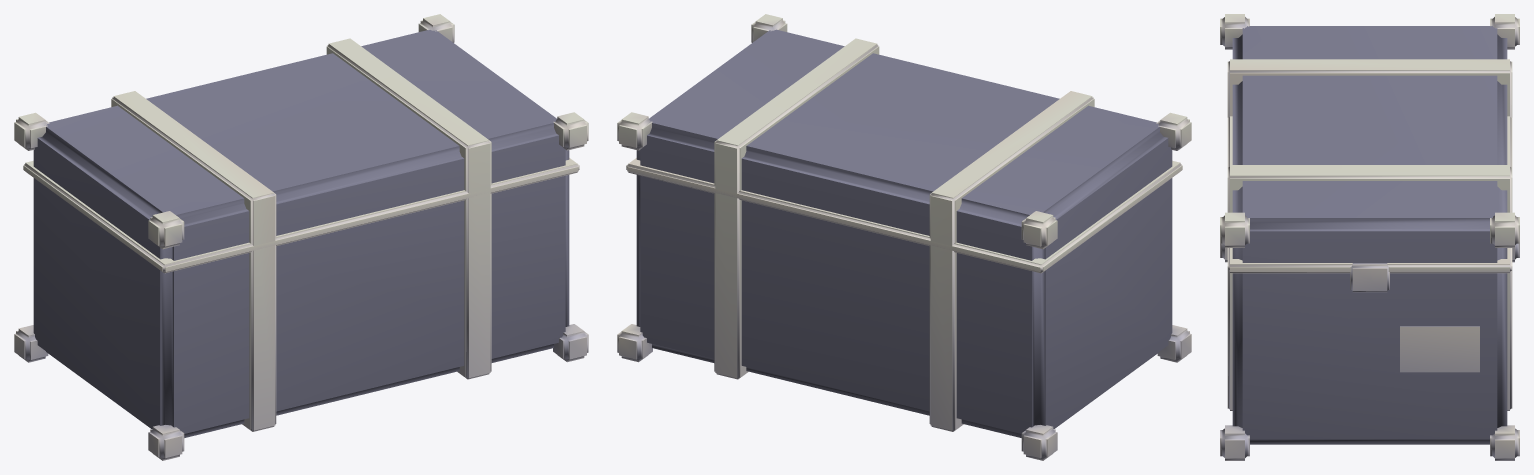
File: steamer-trunk.glb
The picture shows the model from 3 angles, left to right: view 1: azimuth 30°, elevation 25°; view 2: azimuth 150°, elevation 25°; view 3: azimuth 270°, elevation 25°; orthographic projection.
Parts seen in each view (by area): view 1: body; view 2: body; view 3: body.
Part boxes in pixels (box(x1,y1,x2,y2)): body: box(14, 14, 588, 460); body: box(617, 14, 1191, 460); body: box(1220, 14, 1519, 460).
Bounding box in the file's own units: 1 × 0.53 × 0.6.
